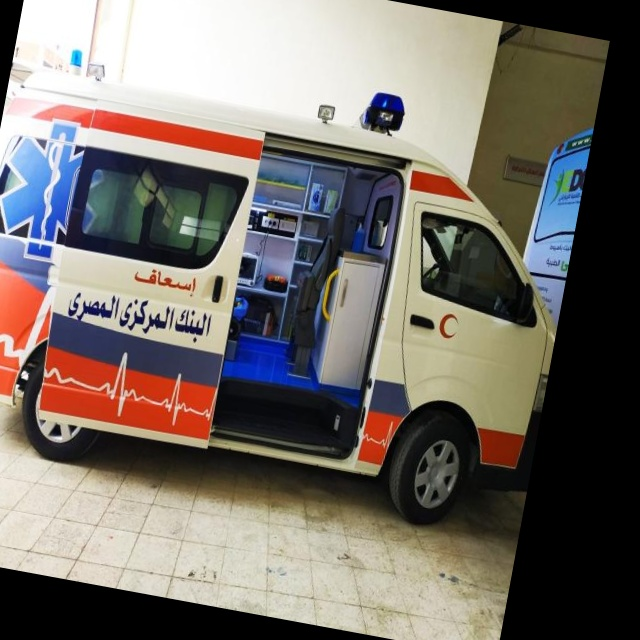Ambulance: (0, 24, 592, 546)
